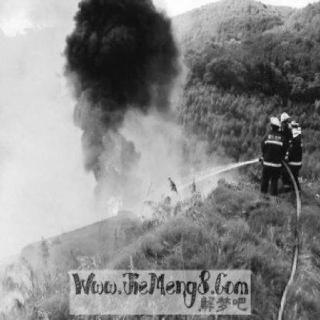Fire: (88, 114, 128, 220)
Smoke: (67, 0, 180, 114)
other: (266, 106, 292, 128)
